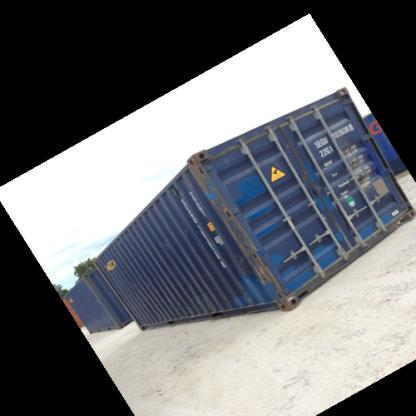Damage: (188, 154, 235, 229), (232, 222, 269, 282), (165, 282, 218, 304)
